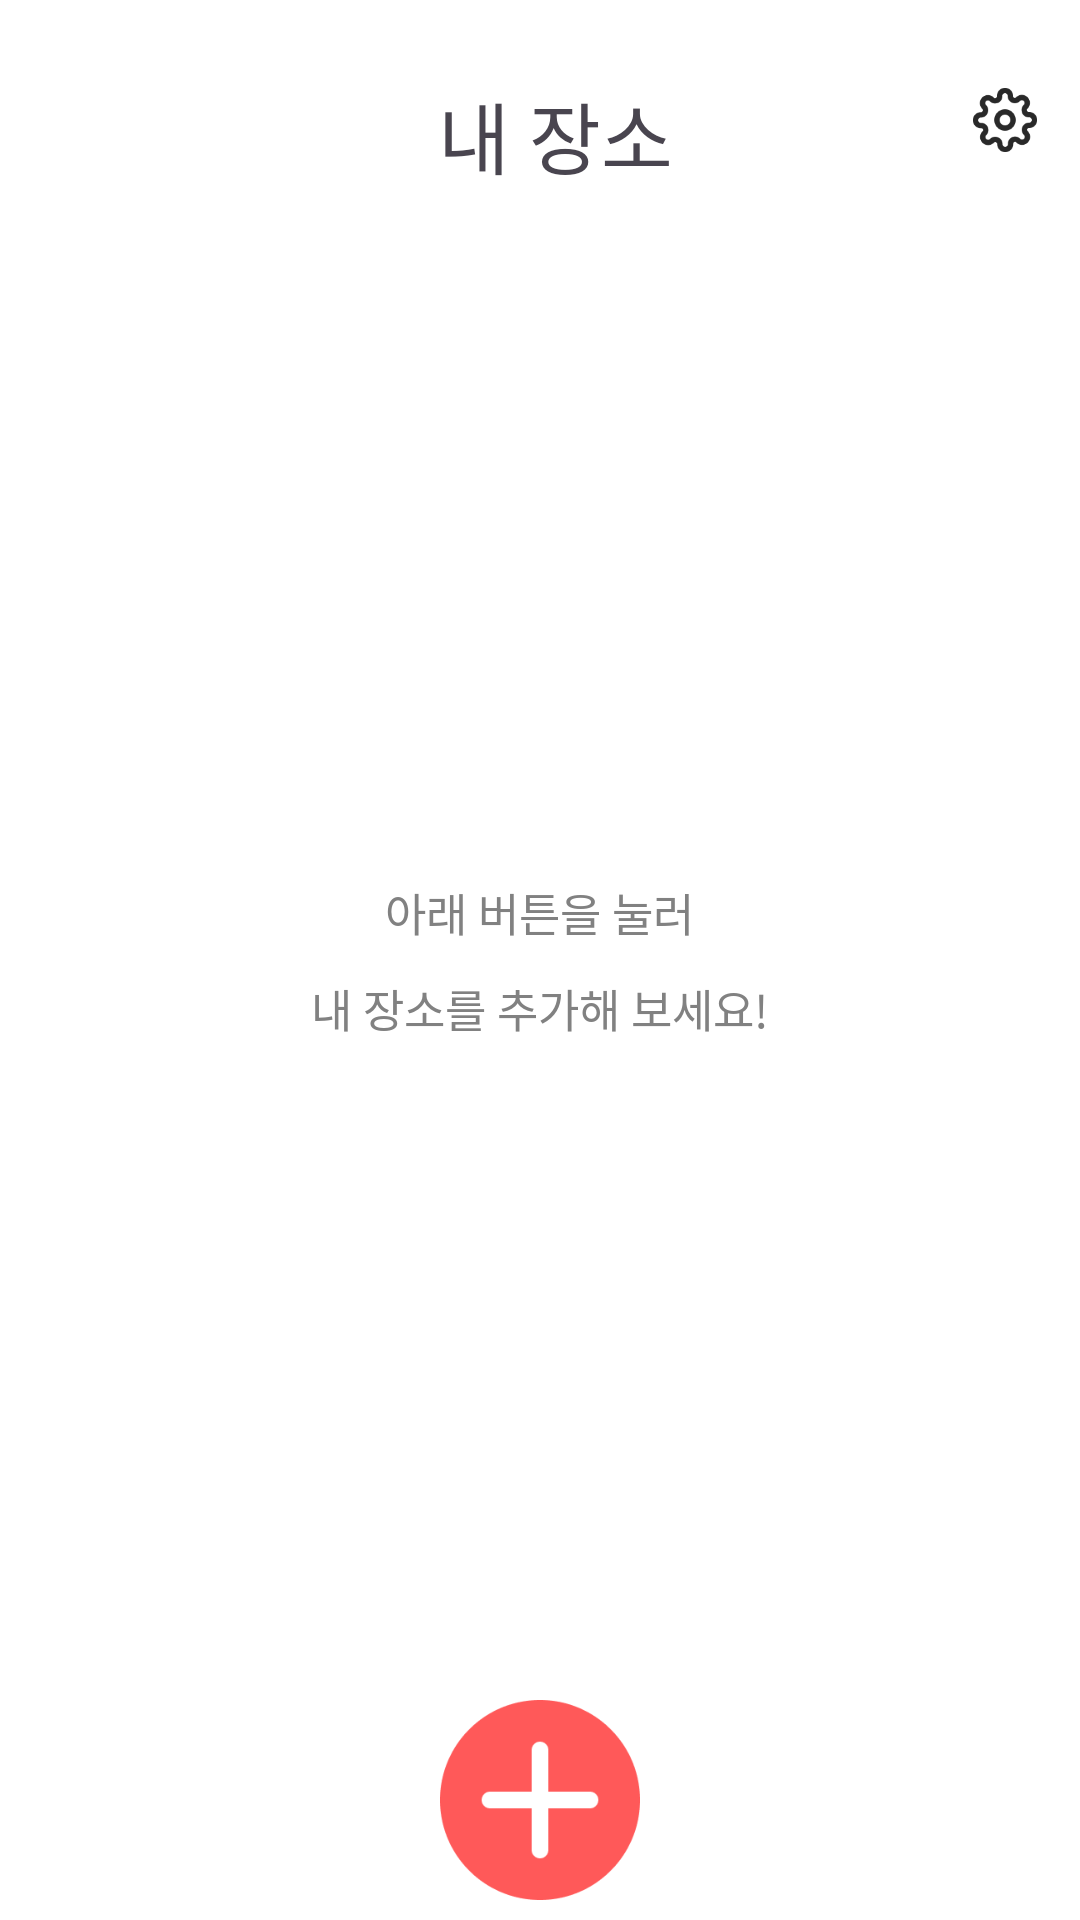

Named icons in this screenshot (1080w x 1920h) and their centers, (x,y):
plus: (540,1800)
settings: (1005,120)
